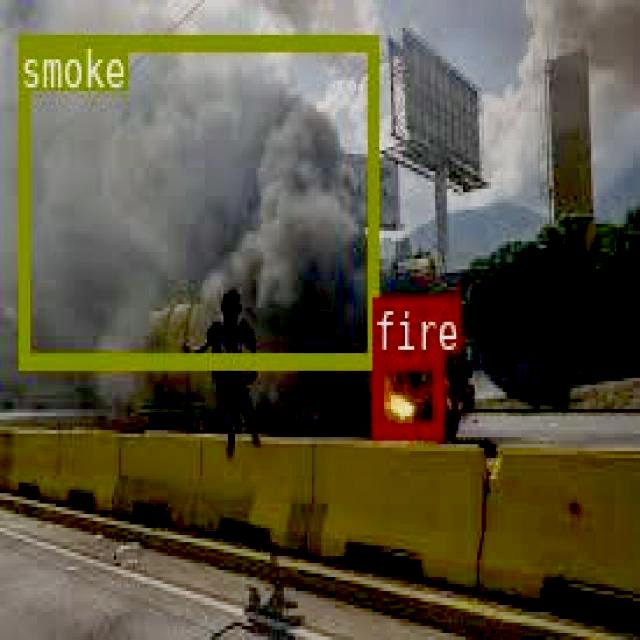fire: (372, 352, 440, 436)
smoke: (17, 34, 375, 366)
